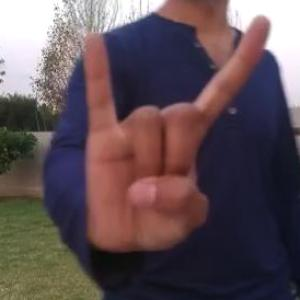takeoff-hand: (75, 7, 278, 265)
